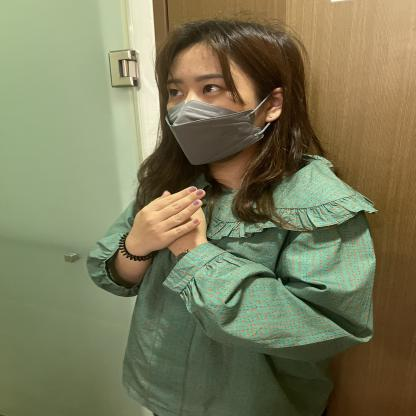Grieve: (51, 139, 238, 303)
